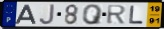8: (64, 3, 80, 26)
A: (14, 4, 38, 25)
J: (38, 4, 56, 26)
L: (129, 5, 145, 25)
Q: (82, 4, 104, 26)
R: (106, 5, 128, 25)
